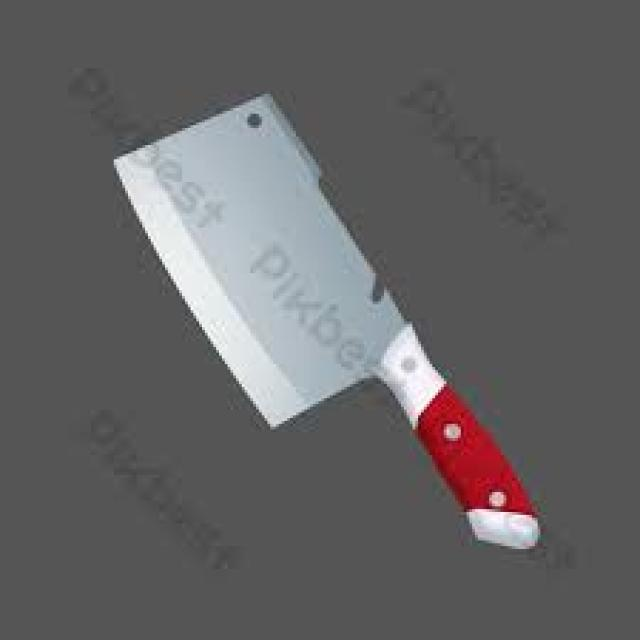Knife: (117, 117, 543, 549)
